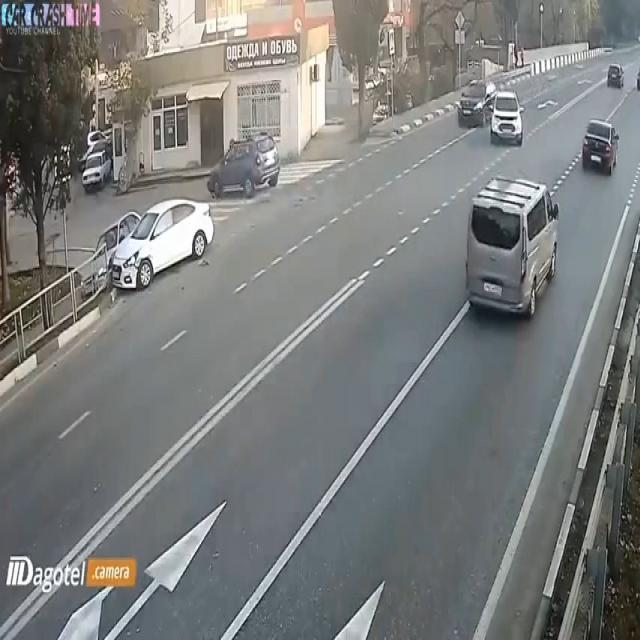Accident: (88, 184, 224, 343)
